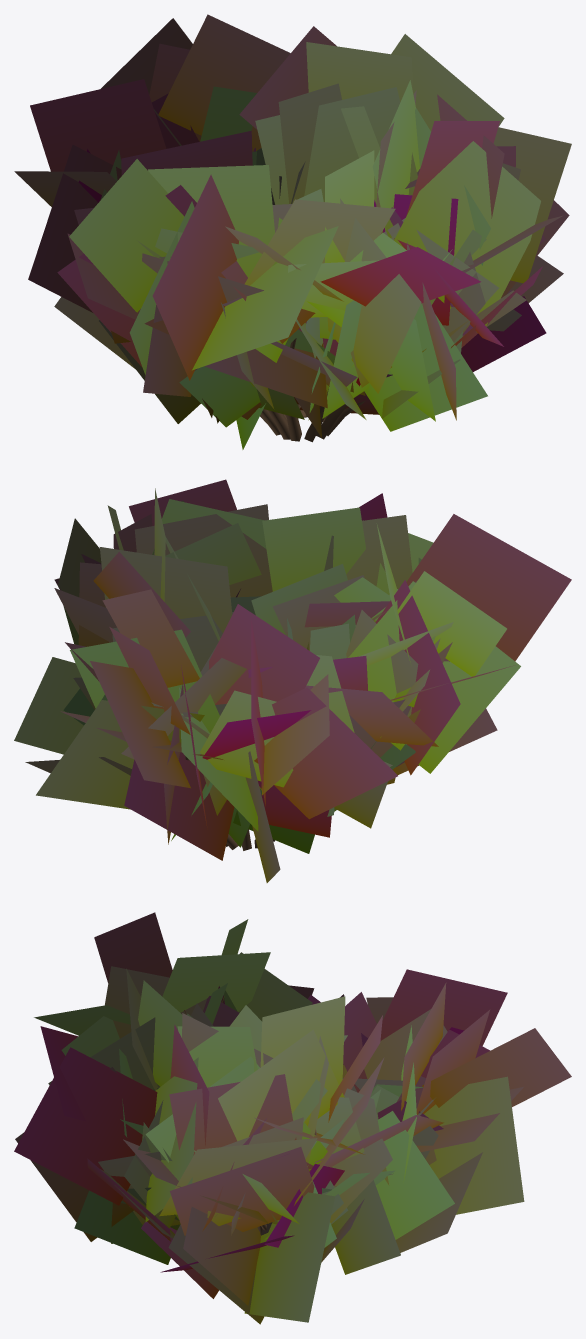
The model's file is bush_2.glb.
3 renders of one model, top to bottom at view 1: azimuth 30°, elevation 25°; view 2: azimuth 150°, elevation 25°; view 3: azimuth 270°, elevation 25°, orthographic. The views are drawn at different scales.
Parts seen in each view (by area): view 1: Leaves, Trunk; view 2: Leaves; view 3: Leaves.
Part boxes in pixels (<box>): Leaves: <box>14,14,571,449</box>; Trunk: <box>260,338,365,442</box>; Leaves: <box>14,479,571,882</box>; Leaves: <box>14,912,571,1324</box>.
Bounding box in the file's own units: 1.86 × 1.29 × 2.08.
